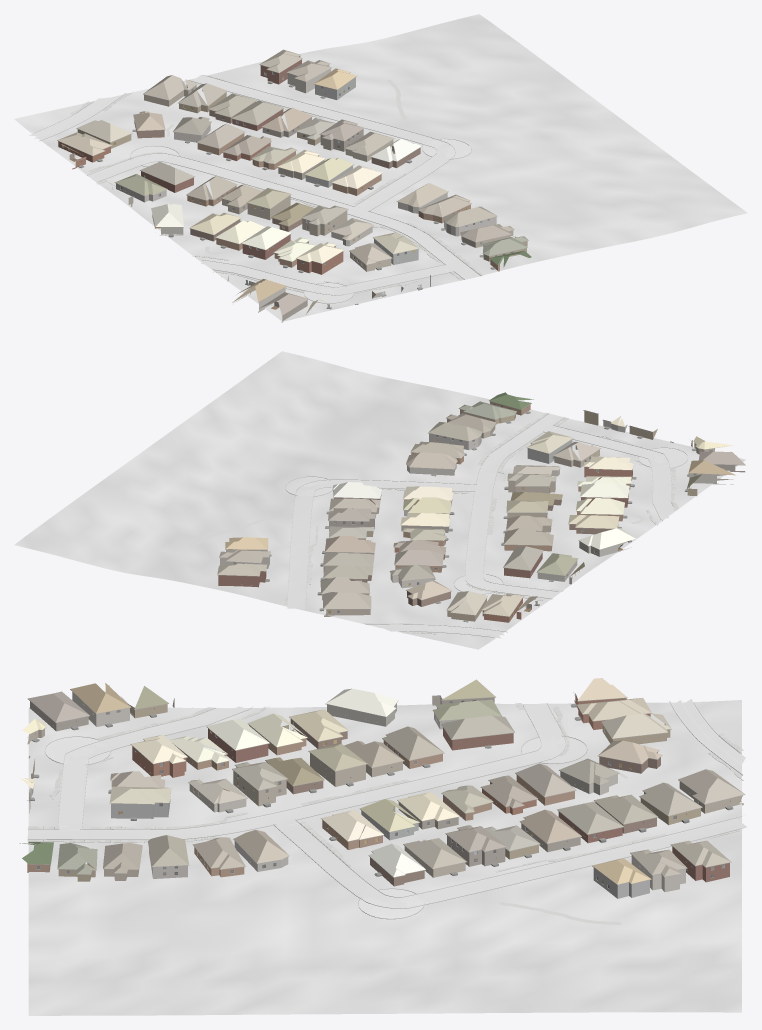
3 renders of one model, top to bottom at view 1: azimuth 30°, elevation 25°; view 2: azimuth 150°, elevation 25°; view 3: azimuth 270°, elevation 25°, orthographic. The views are drawn at different scales.
Visible parts, largest first — view 1: ground, roof, concrete, wall, detail, wall_stucco, curb, walk, wall_stone, asphalt; view 2: ground, roof, concrete, wall, detail, curb, walk, wall_stucco, wall_stone, asphalt; view 3: ground, roof, concrete, wall, wall_stucco, detail, curb, walk, asphalt, wall_stone, glass.
Part boxes in pixels (<box>): ground: <box>14,14,747,321</box>; roof: <box>57,49,531,315</box>; concrete: <box>87,74,480,303</box>; wall: <box>58,56,527,322</box>; detail: <box>57,55,528,315</box>; wall_stucco: <box>152,65,418,312</box>; curb: <box>34,75,480,303</box>; walk: <box>69,75,483,293</box>; wall_stone: <box>116,183,496,291</box>; asphalt: <box>29,96,120,138</box>; ground: <box>14,351,745,649</box>; roof: <box>217,392,745,616</box>; concrete: <box>285,413,687,608</box>; wall: <box>218,401,745,622</box>; detail: <box>217,401,745,622</box>; curb: <box>285,413,688,637</box>; walk: <box>194,412,678,634</box>; wall_stucco: <box>220,439,733,588</box>; wall_stone: <box>407,419,627,581</box>; asphalt: <box>376,624,504,638</box>; ground: <box>28,700,741,1015</box>; roof: <box>19,678,744,884</box>; concrete: <box>27,703,747,918</box>; wall: <box>27,693,743,886</box>; wall_stucco: <box>72,692,685,898</box>; detail: <box>27,685,745,888</box>; curb: <box>27,701,744,919</box>; walk: <box>27,703,743,924</box>; asphalt: <box>672,699,745,770</box>; wall_stone: <box>29,708,457,878</box>; glass: <box>37,699,724,888</box>.
Size of the model in its own units: 262 by 13.65 by 257.
